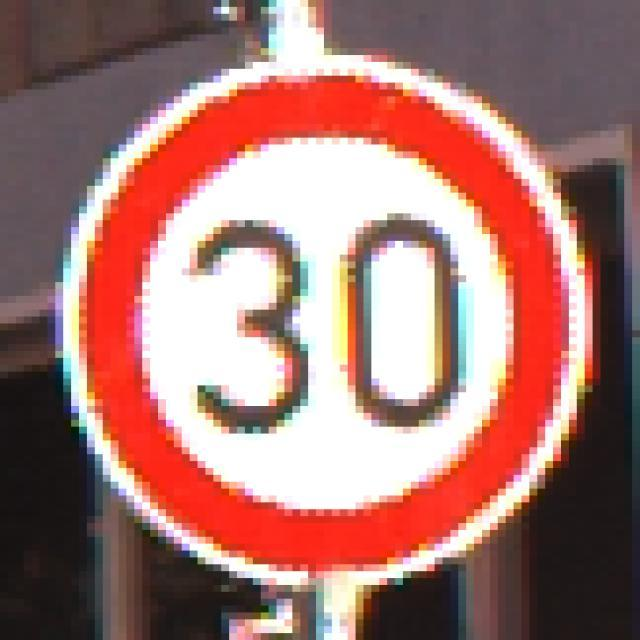Speed Limit -30-: (51, 51, 581, 582)
